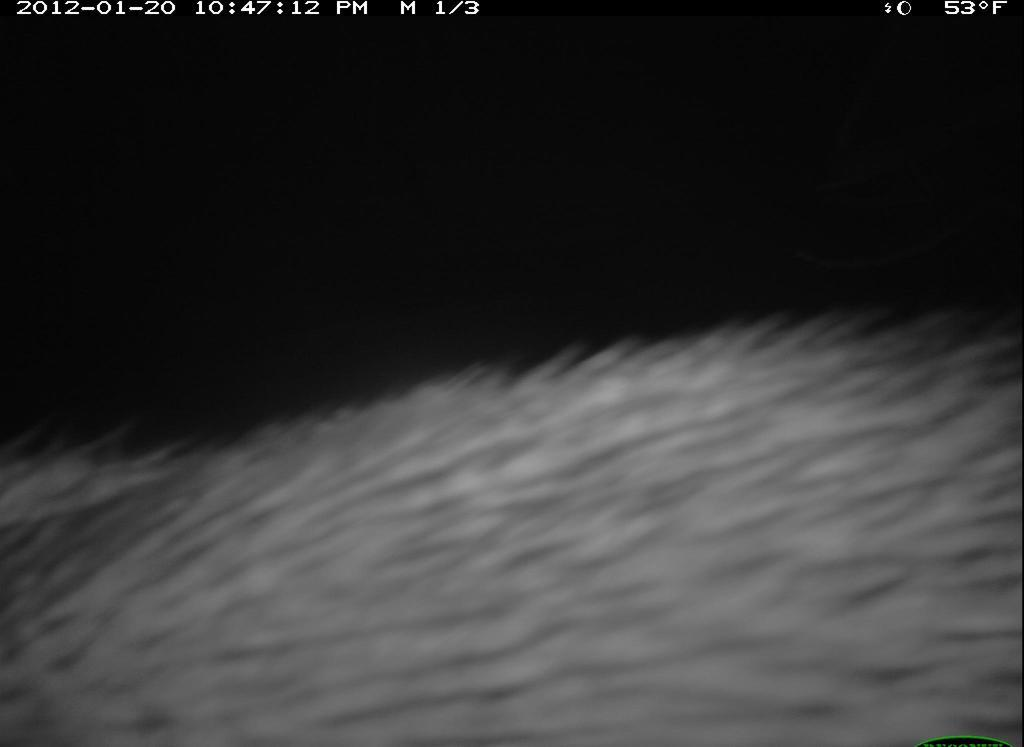raccoon: (2, 297, 1022, 747)
